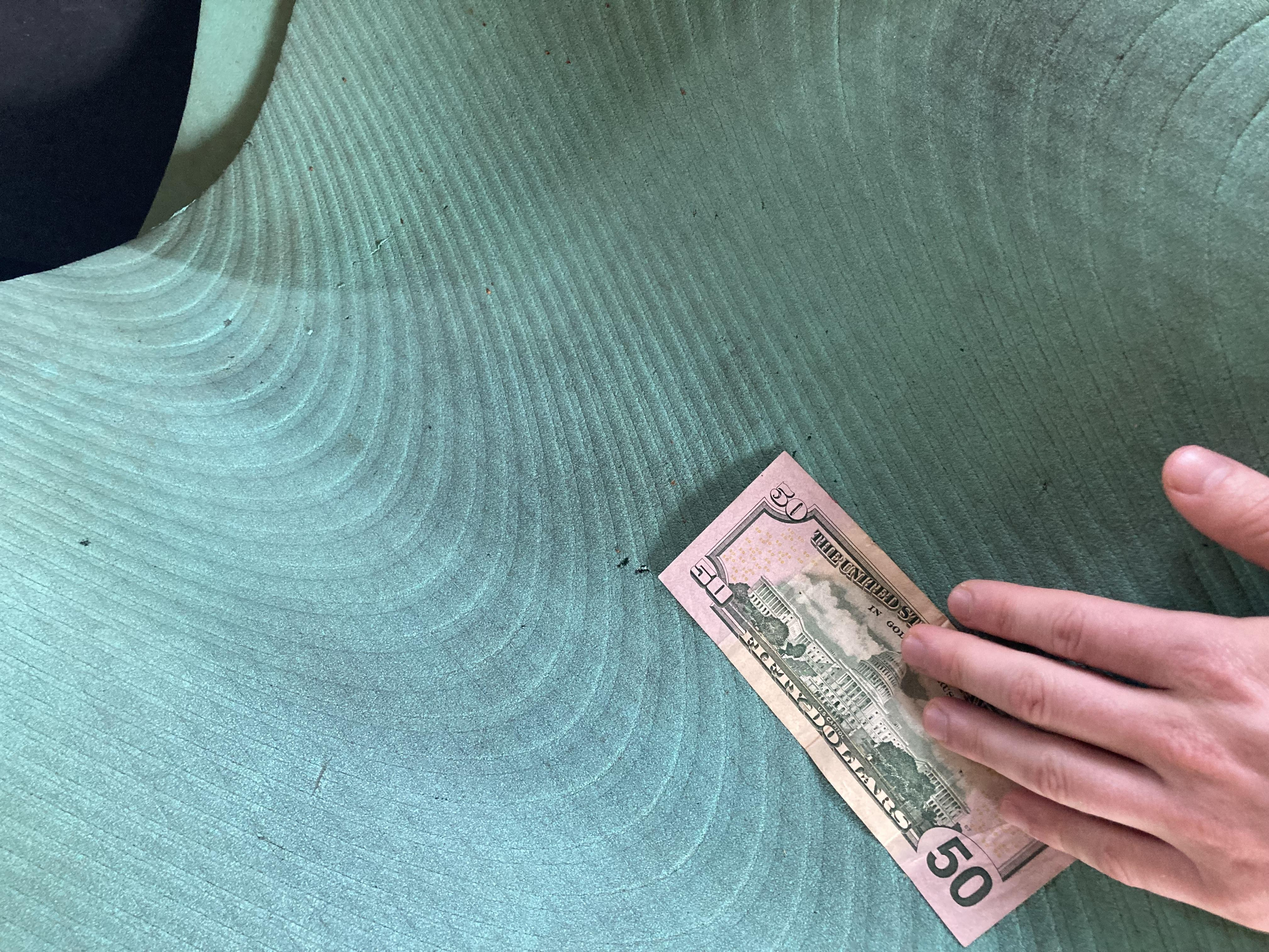fifty-back: (5, 493, 669, 852)
